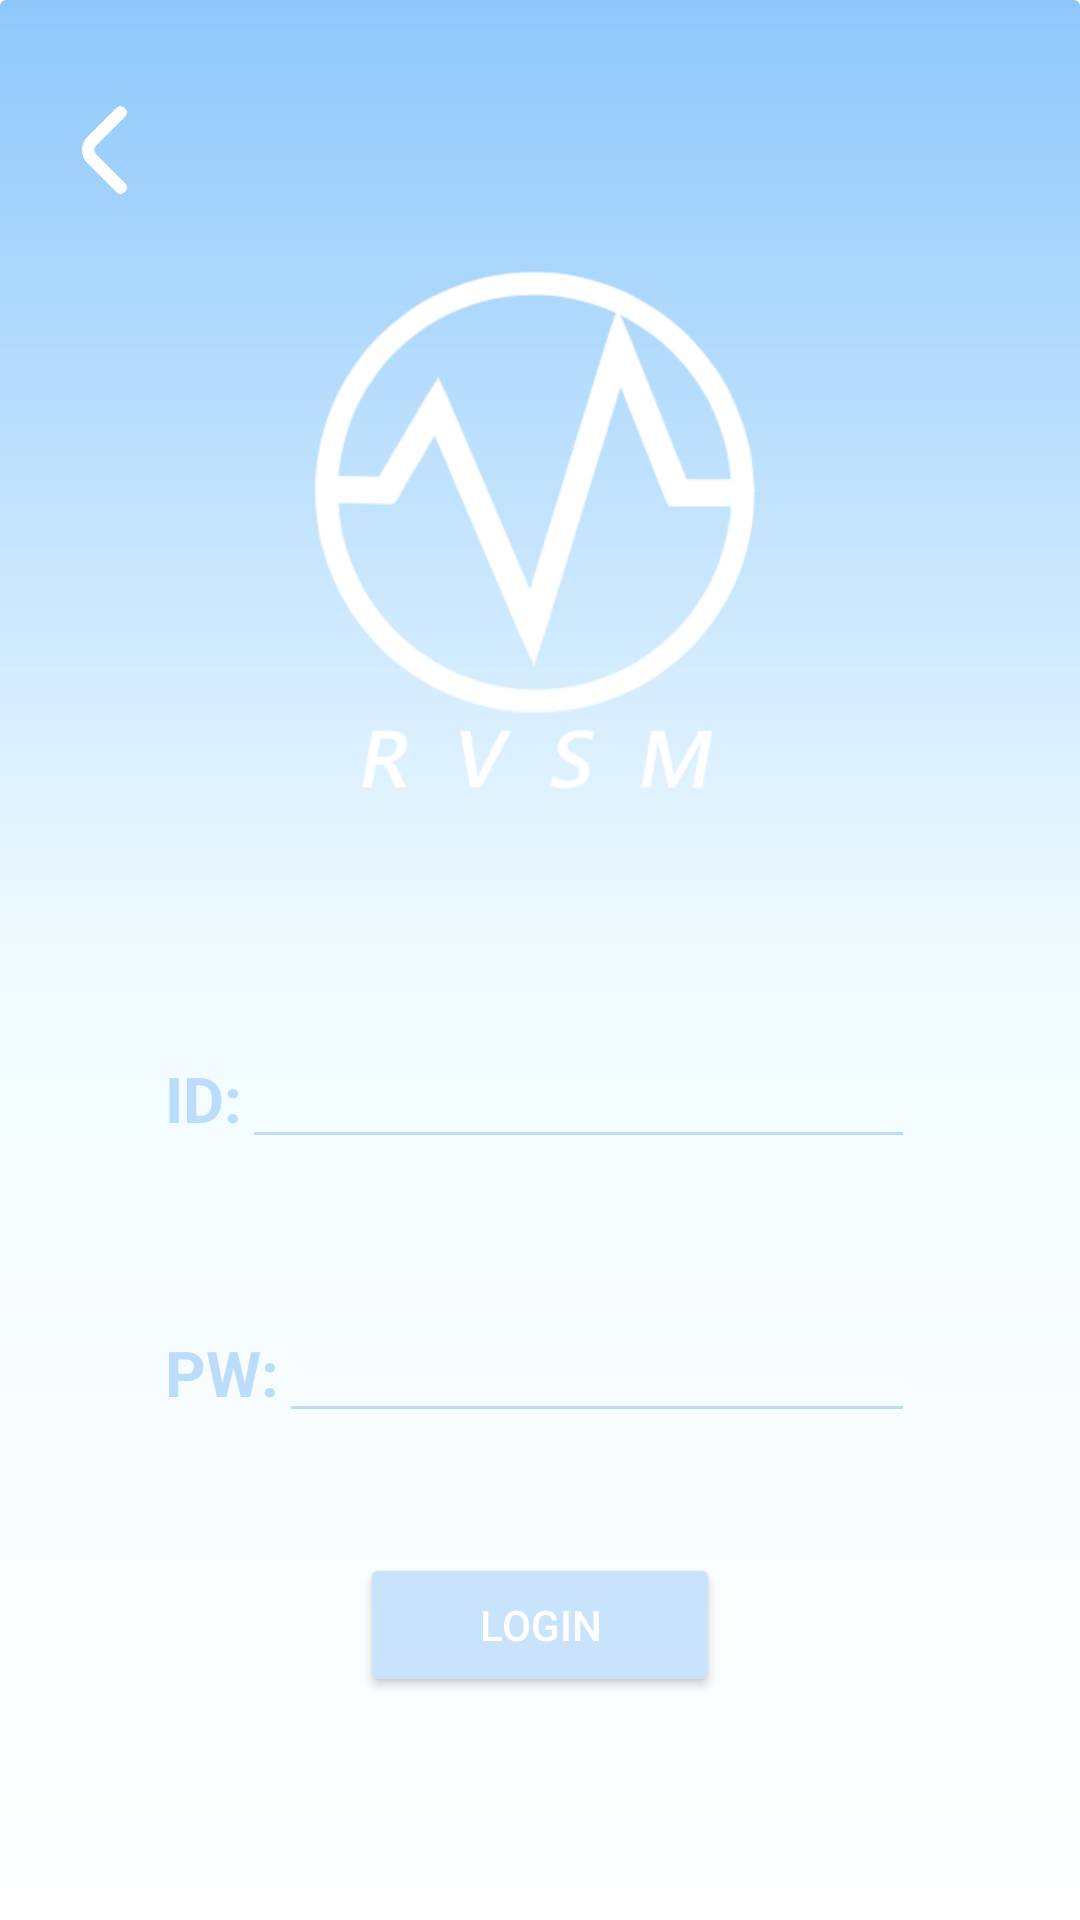

Icons on this 1080 x 1920 Android screen, each with the point to tap as [x,y]:
back: [104,150]
